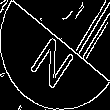N_NE: (27, 23, 83, 87)
